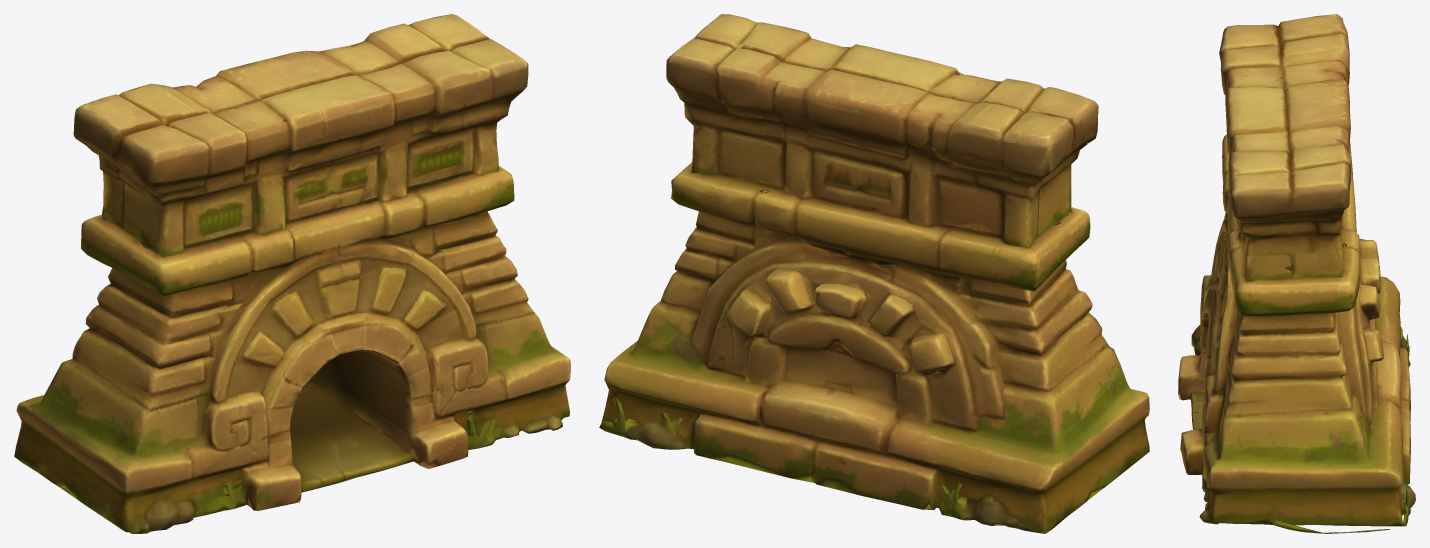
The model's file is Temple_Tunnel_LODs.fbx.
3 renders of one model, left to right at view 1: azimuth 30°, elevation 25°; view 2: azimuth 150°, elevation 25°; view 3: azimuth 270°, elevation 25°, orthographic. The views are drawn at different scales.
Visible parts, largest first — view 1: Temple_Tunnel_LOD0; view 2: Temple_Tunnel_LOD0; view 3: Temple_Tunnel_LOD0.
Boxes of the visible parts, bbox=[...] form: Temple_Tunnel_LOD0: bbox=[14, 14, 570, 533]; Temple_Tunnel_LOD0: bbox=[599, 14, 1149, 533]; Temple_Tunnel_LOD0: bbox=[1178, 14, 1415, 533].
Size of what is drawn, in the model's own units: 3.92 by 3 by 1.94.
Materials: 1 (1 with a texture image).
